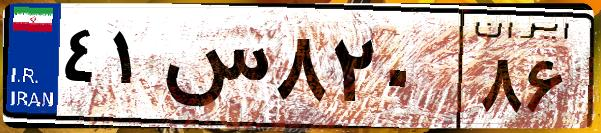0: (385, 28, 445, 110)
1: (110, 28, 158, 98)
2: (330, 28, 385, 110)
4: (57, 26, 110, 100)
6: (525, 38, 570, 115)
8: (270, 28, 330, 110), (475, 38, 525, 113)
س: (158, 20, 270, 120)
